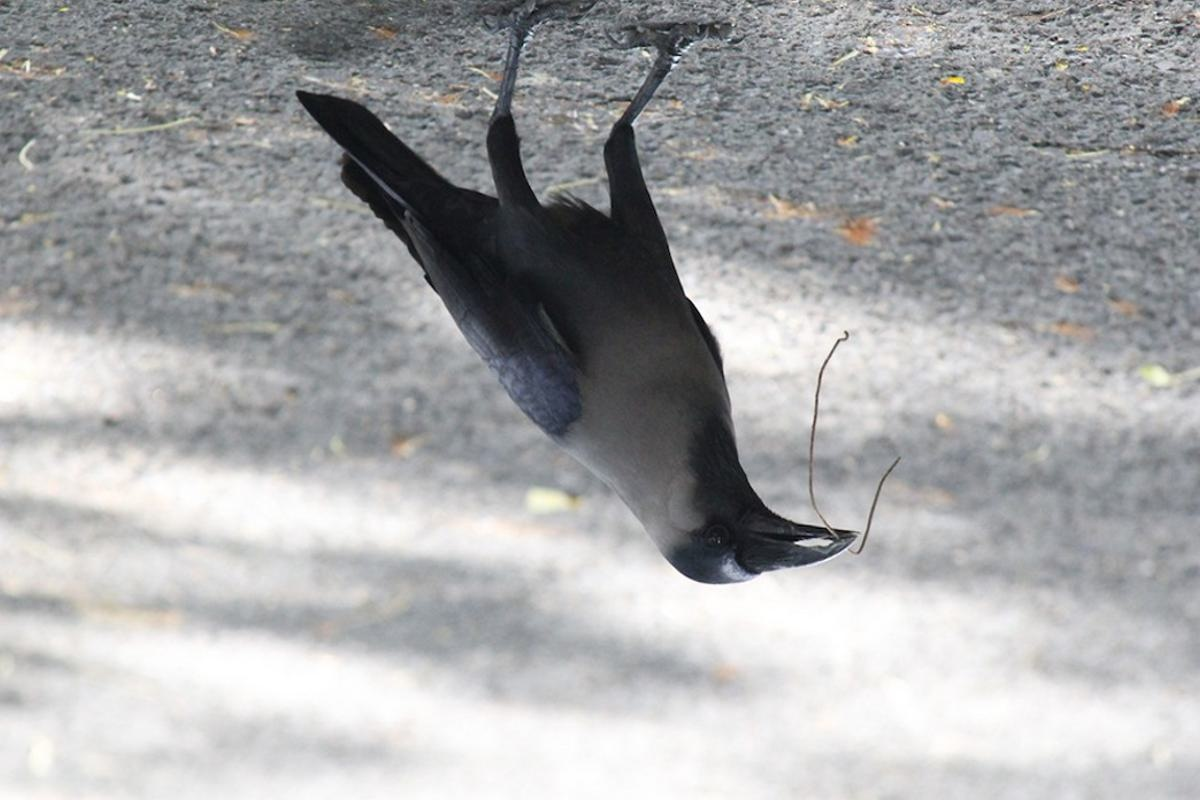crow: (307, 28, 881, 600)
